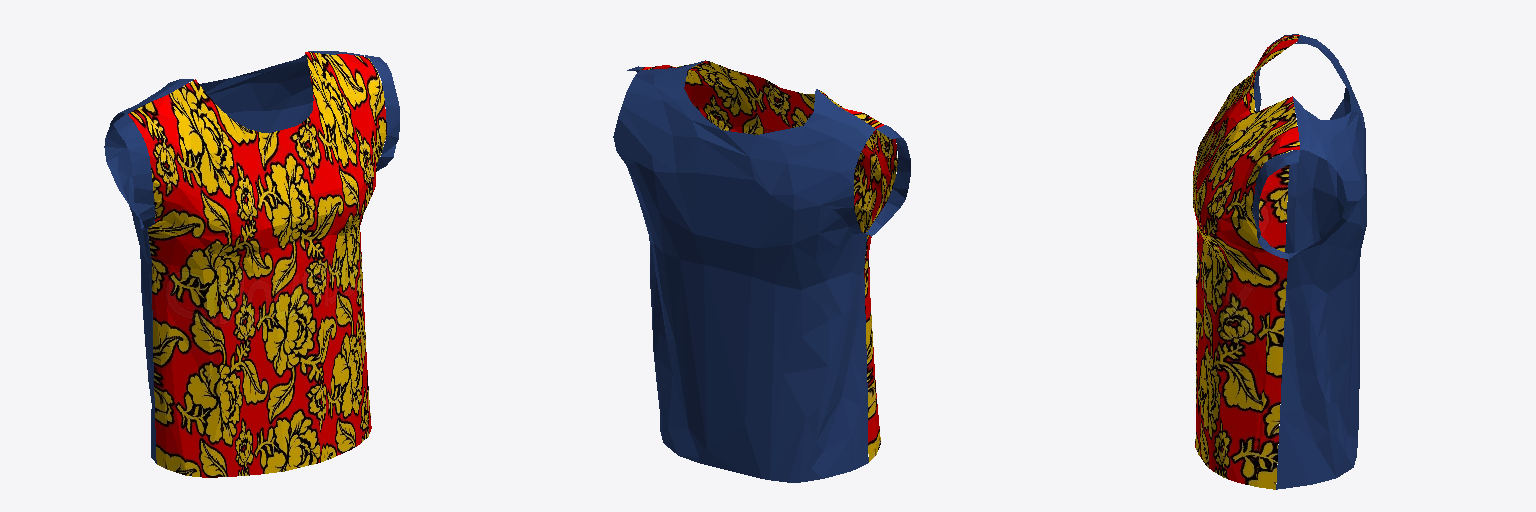
3 renders of one model, left to right at view 1: azimuth 30°, elevation 25°; view 2: azimuth 150°, elevation 25°; view 3: azimuth 270°, elevation 25°, orthographic.
Parts seen in each view (by area): view 1: T_shirt.004; view 2: T_shirt.004; view 3: T_shirt.004.
Part boxes in pixels (x1,y1,x2,y2): T_shirt.004: (104, 51, 399, 477); T_shirt.004: (613, 60, 910, 482); T_shirt.004: (1193, 34, 1366, 489).
Bounding box in the file's own units: 0.2935 × 0.3892 × 0.1639.
2 materials, 1 textured.